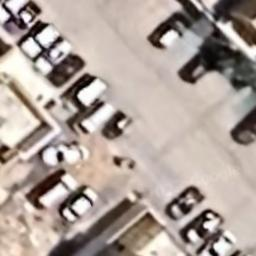SUV: (154, 16, 184, 48)
sedan: (181, 205, 228, 247), (166, 184, 202, 220), (40, 144, 90, 168), (64, 186, 98, 220), (195, 229, 237, 256)
unknown: (46, 52, 86, 87)
van: (65, 78, 110, 112), (74, 102, 116, 136), (22, 22, 58, 58), (35, 38, 73, 72), (231, 106, 256, 146)
